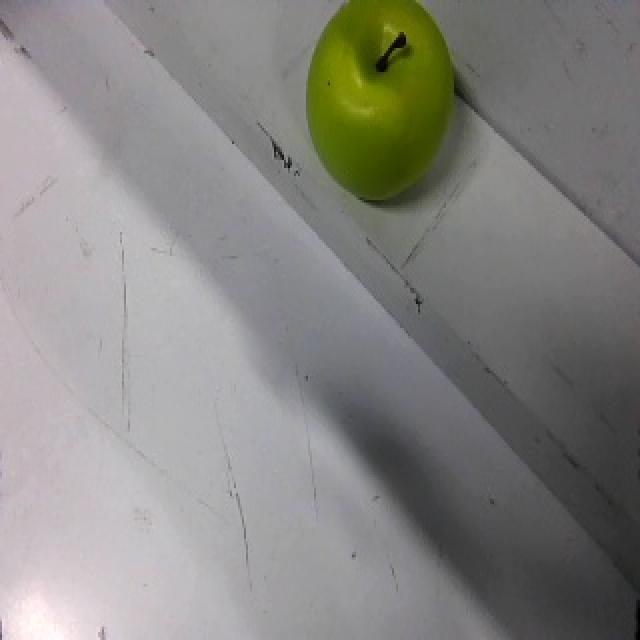apple: (303, 0, 461, 208)
